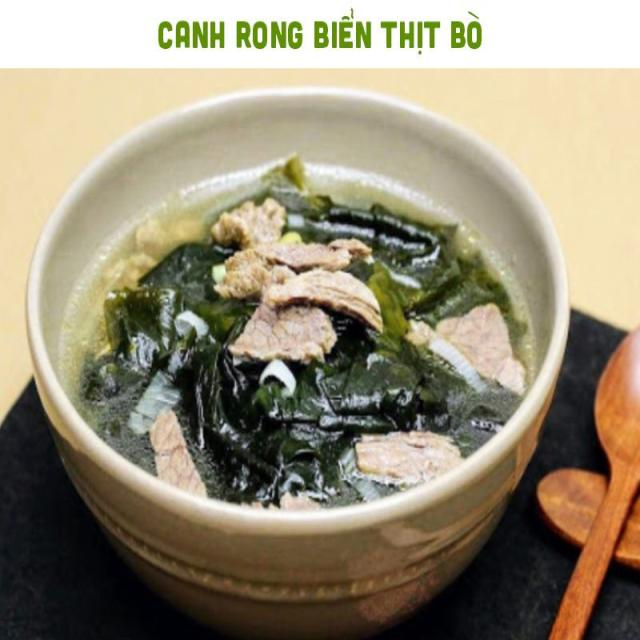canh rong bien: (57, 157, 534, 509)
